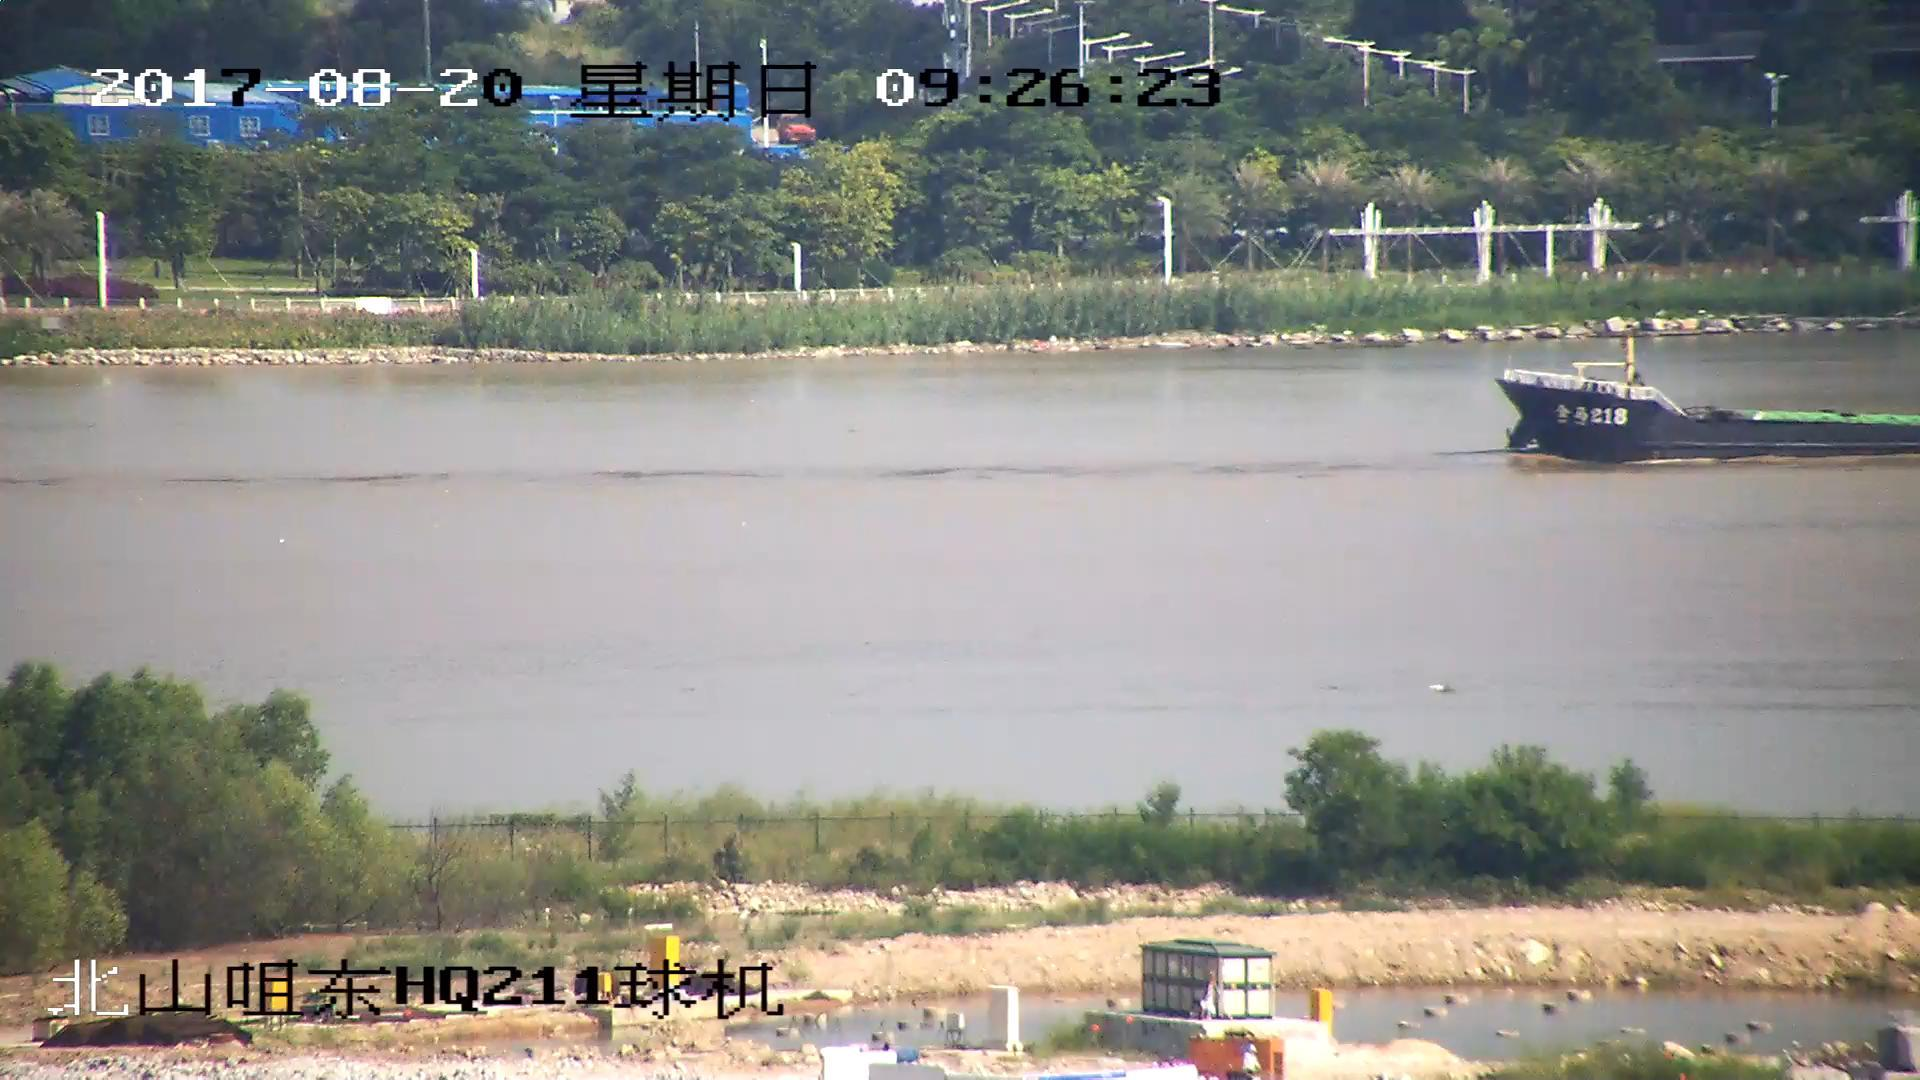Ship: (1502, 365, 1920, 462)
